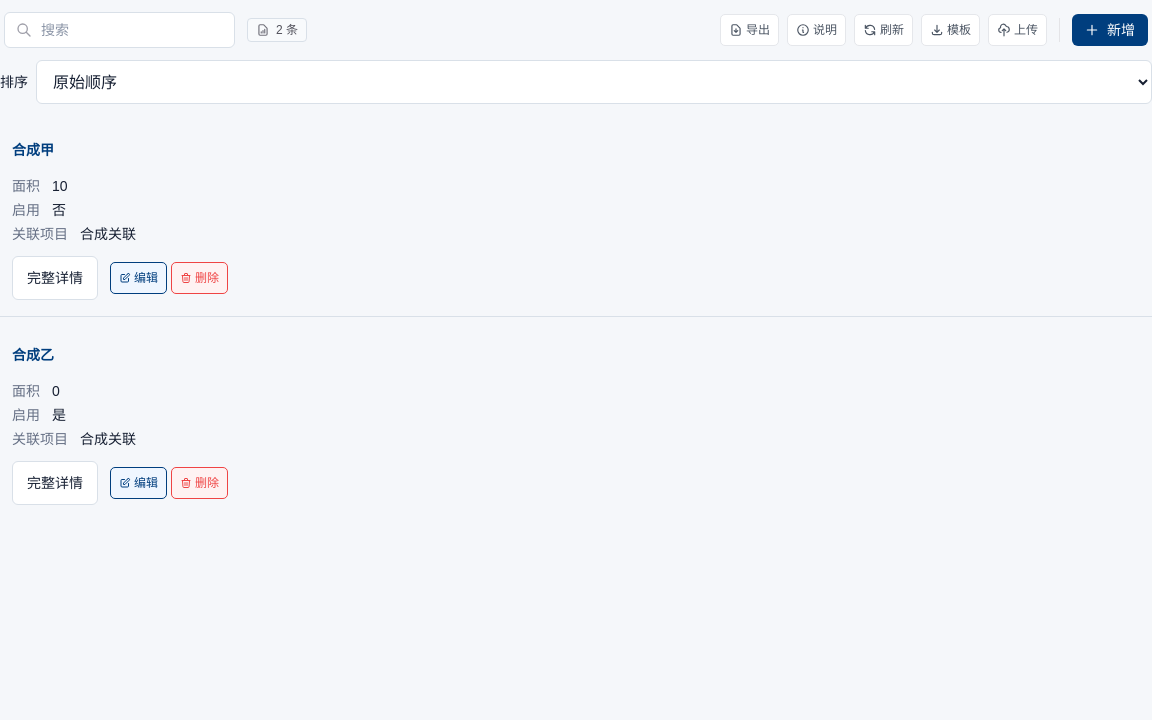
Test: mobile record controller and confirmation › save-and-continue failure keeps both the intended action and input until successful retry
This screenshot has width=1152, height=720.
Expected: the button "合成甲" is shown, 12,128 -> 1140,172
Click the button "编辑" below "10".
click(138, 278)  # box 110,262 -> 167,294
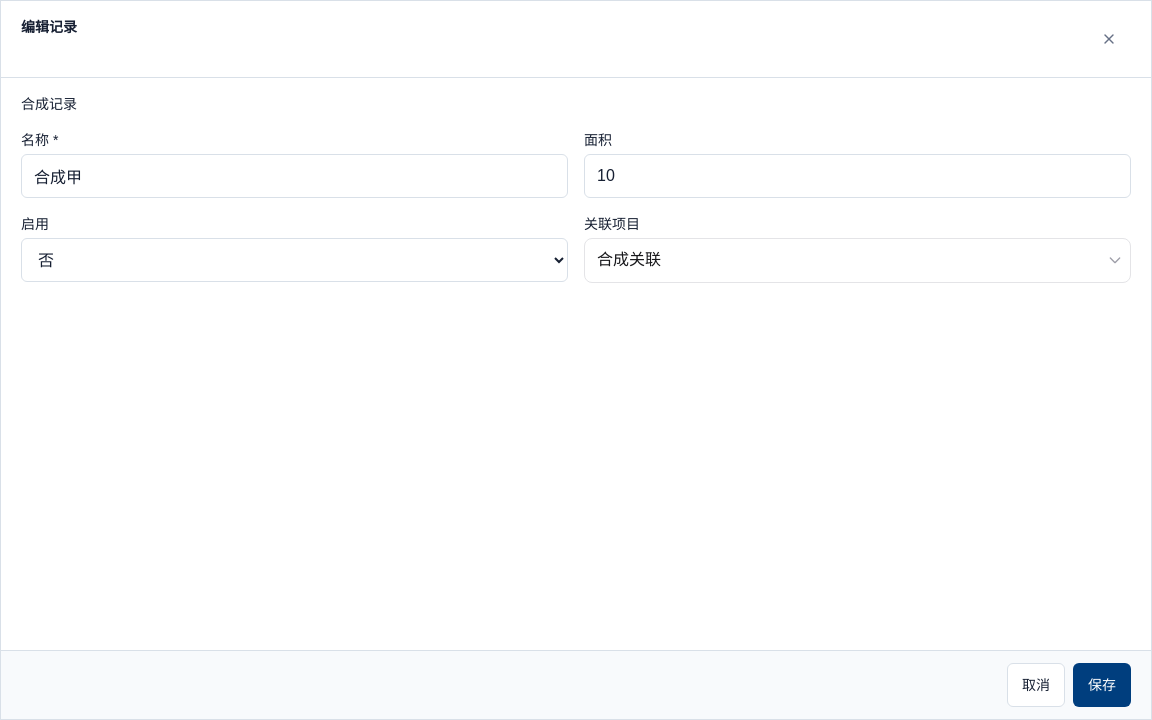
Replace the text in the field labelled "名称 *" with "重试保留" at (294, 176), box 21,154 -> 568,198
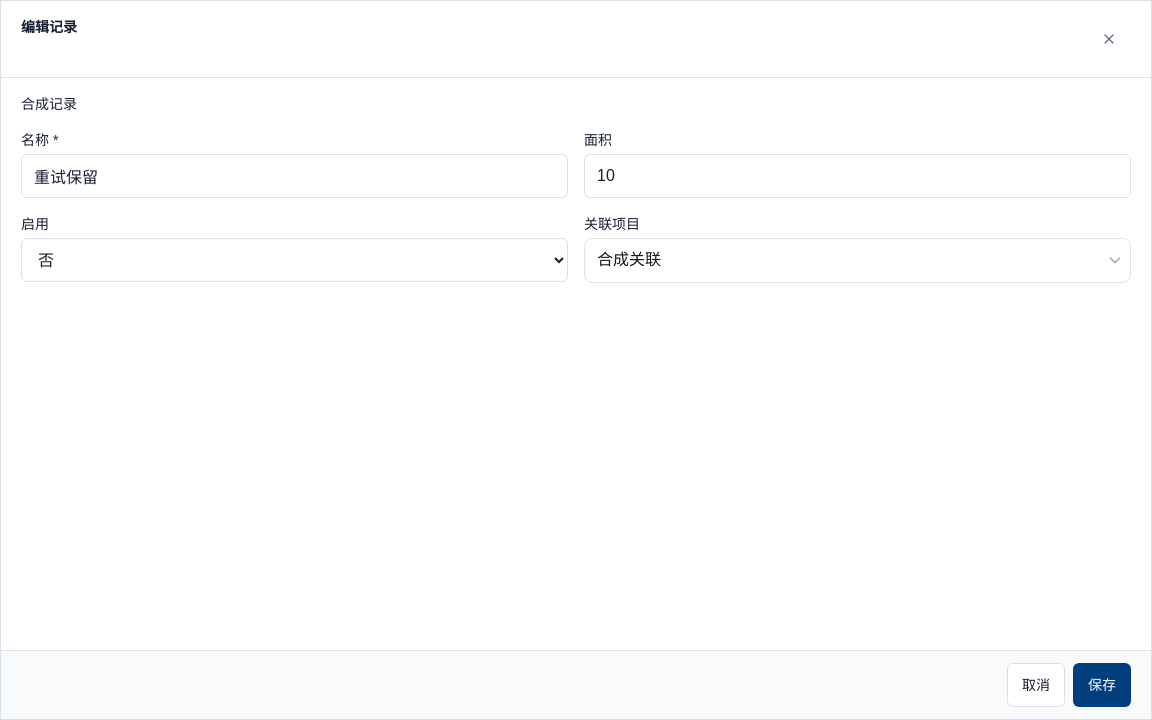
Click the button "取消".
click(1036, 685)  # box 1007,663 -> 1065,707
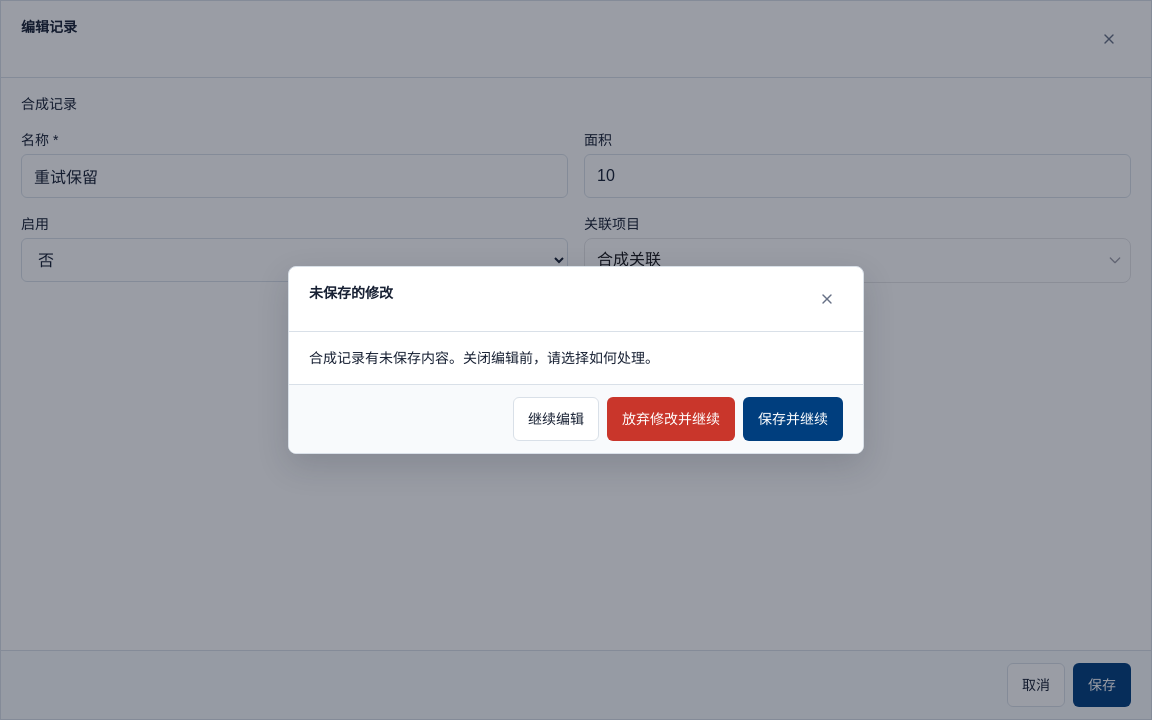
Click the button "保存并继续".
click(793, 419)  # box 743,397 -> 843,441
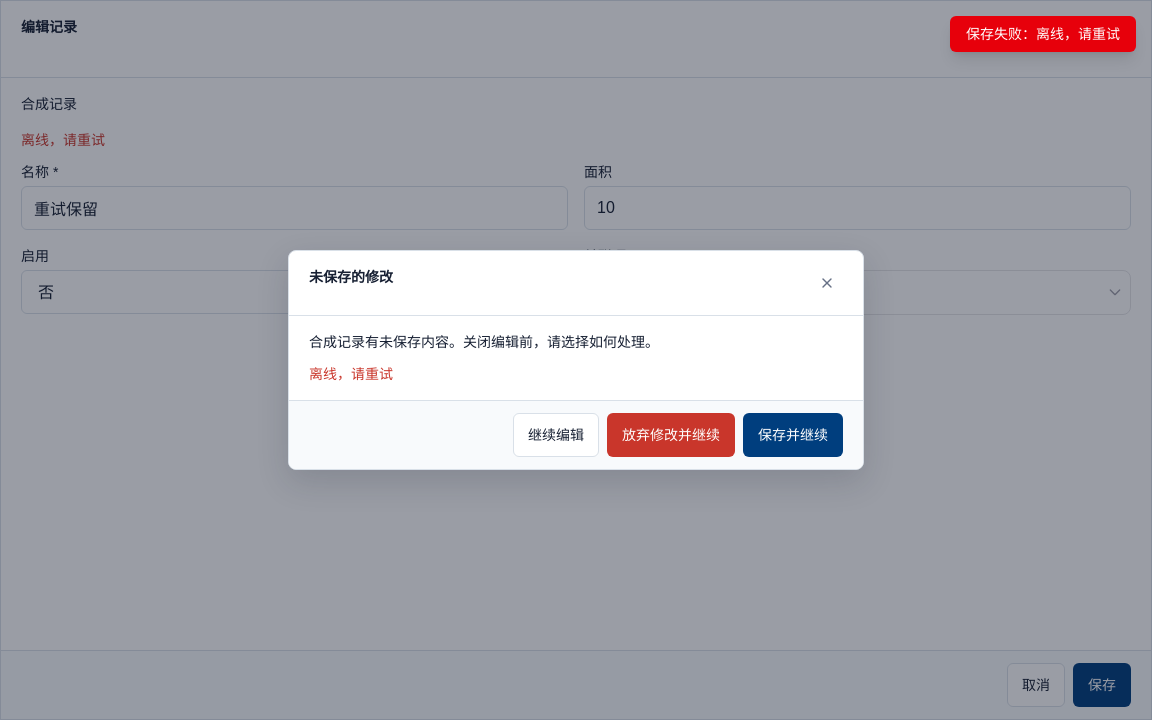
Expected: the dialog "未保存的修改" is shown, 288,250 -> 864,470
Expected: the message "离线，请重试" is shown, 309,366 -> 393,382
Click the button "保存并继续".
click(793, 435)  # box 743,413 -> 843,457
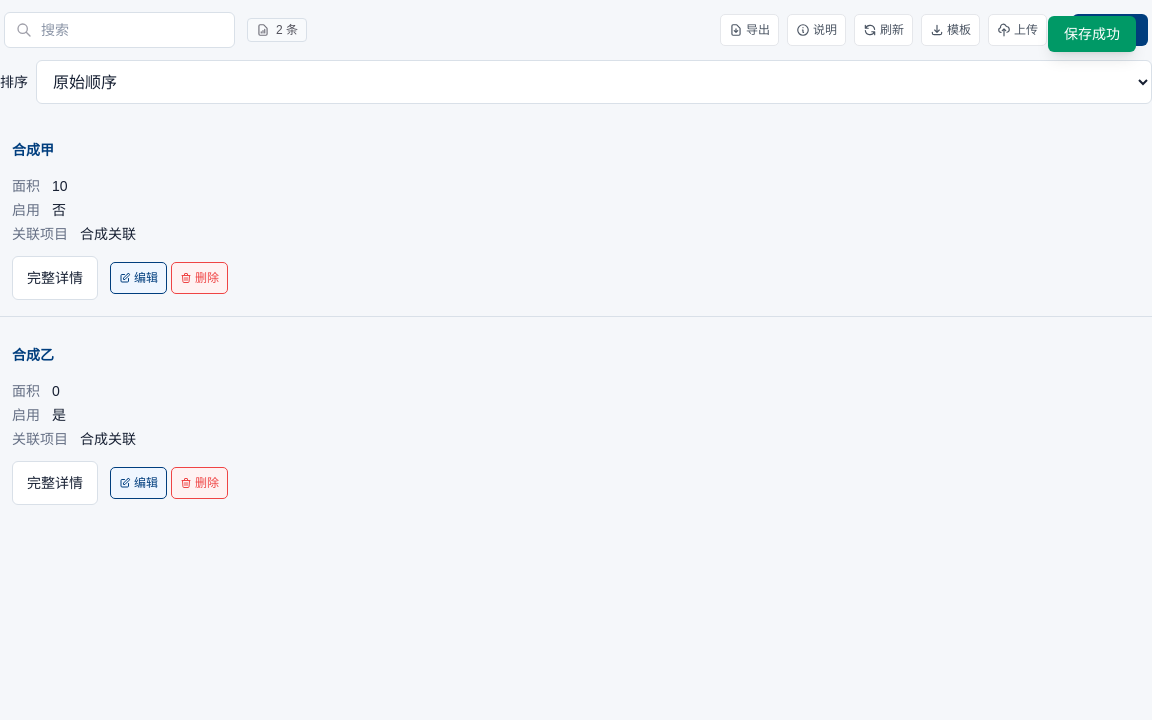
Expected: the heading "未保存的修改" is gone
